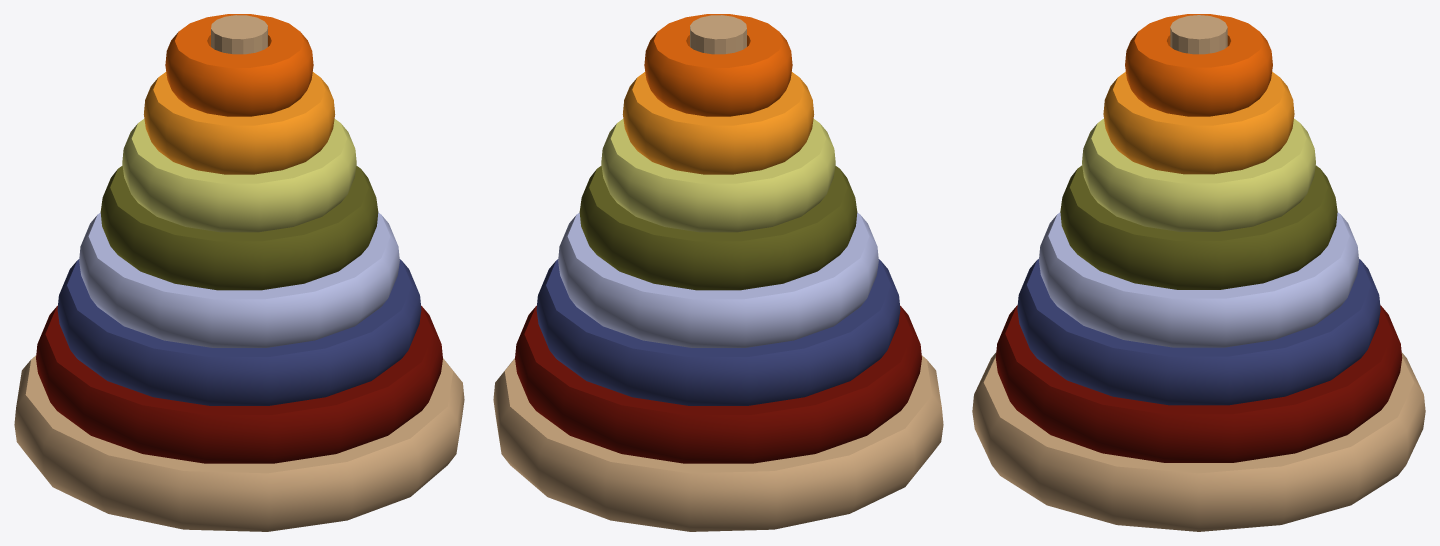
File: Prop_RainbowStacker.FBX
The picture shows the model from 3 angles, left to right: view 1: azimuth 30°, elevation 25°; view 2: azimuth 150°, elevation 25°; view 3: azimuth 270°, elevation 25°; orthographic projection.
Visible parts, largest first — view 1: Cylinder001; view 2: Cylinder001; view 3: Cylinder001.
Part boxes in pixels (x1,y1,x2,y2): Cylinder001: (14,14,464,531); Cylinder001: (493,14,943,531); Cylinder001: (972,14,1425,531).
Bounding box in the file's own units: 21.05 × 21.2 × 21.05.
1 material, 1 textured.
